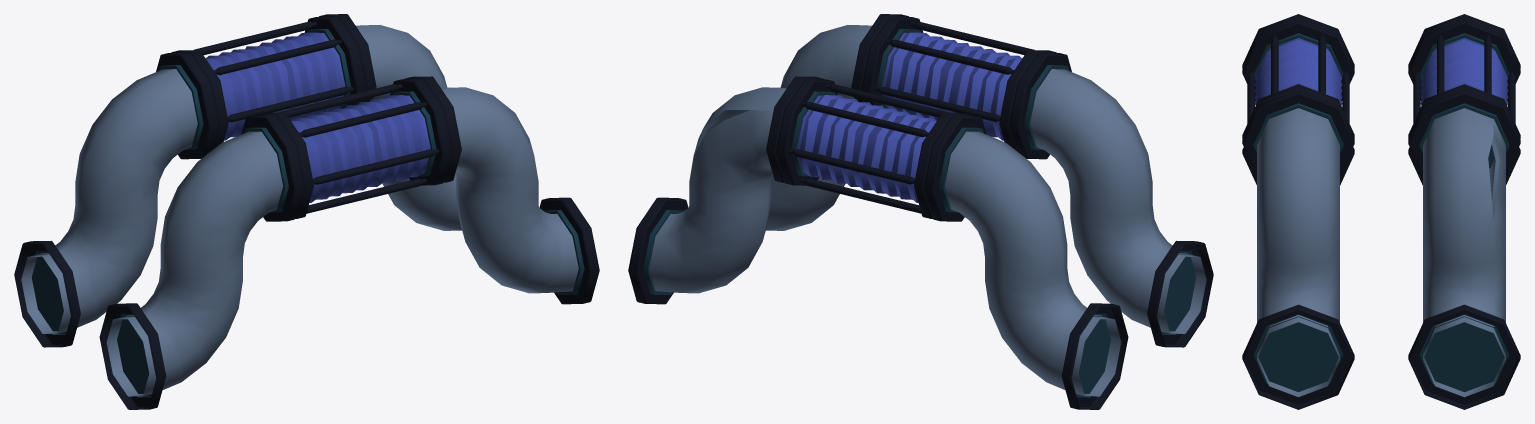
File: PipeComplexSmall_A_10.fbx
3 renders of one model, left to right at view 1: azimuth 30°, elevation 25°; view 2: azimuth 150°, elevation 25°; view 3: azimuth 270°, elevation 25°, orthographic. The views are drawn at different scales.
Parts seen in each view (by area): view 1: PipeComplexSmall_A_10.001; view 2: PipeComplexSmall_A_10.001; view 3: PipeComplexSmall_A_10.001.
Boxes of the visible parts, x1,y1,x2,y2 form: PipeComplexSmall_A_10.001: (14,14,599,409); PipeComplexSmall_A_10.001: (628,14,1213,409); PipeComplexSmall_A_10.001: (1242,14,1520,409).
Bounding box in the file's own units: 0.6 × 0.3356 × 0.3356.
